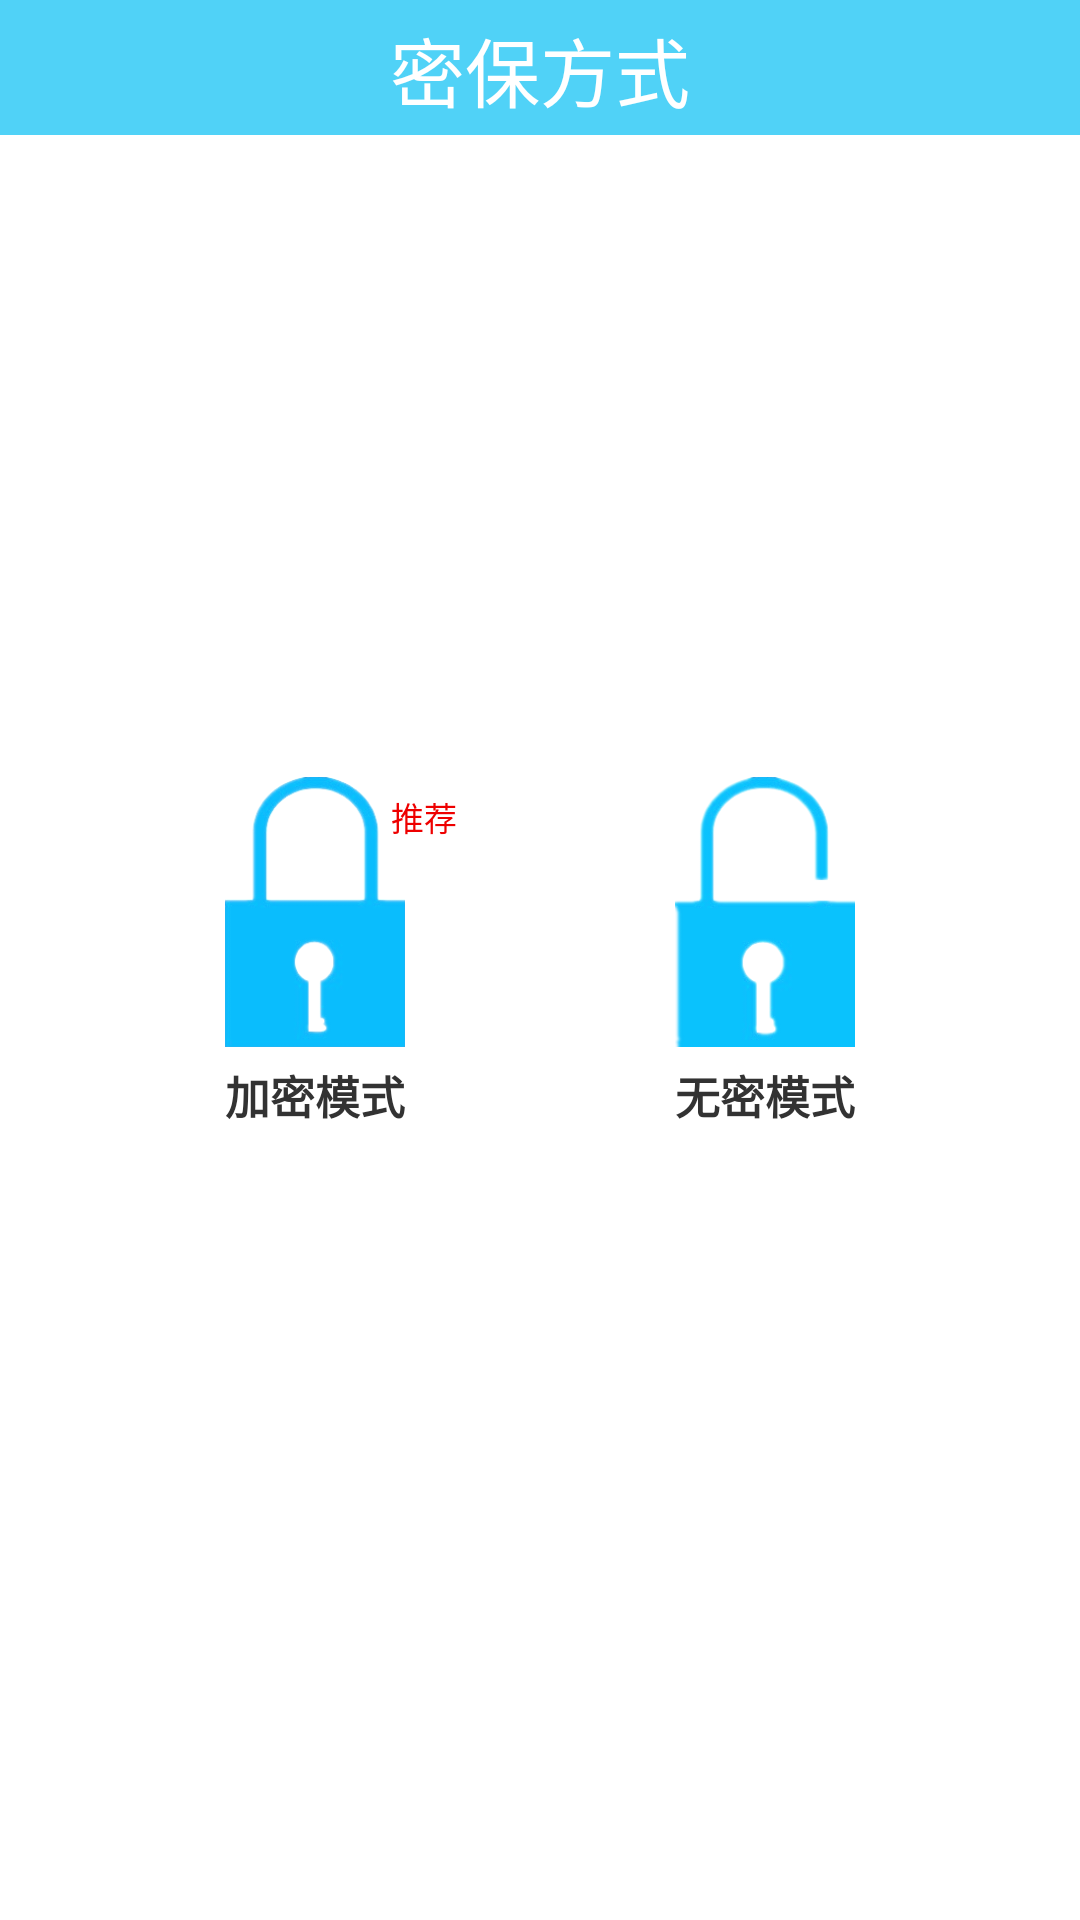

Icons on this 1080×1920 Android screen, each with the point to tap as (x=x, y=y):
lock close: (x=315, y=912)
lock open: (x=765, y=912)
